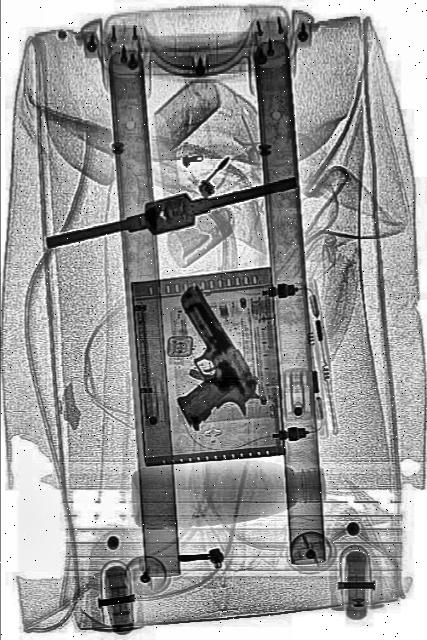Gun: (140, 277, 266, 457)
